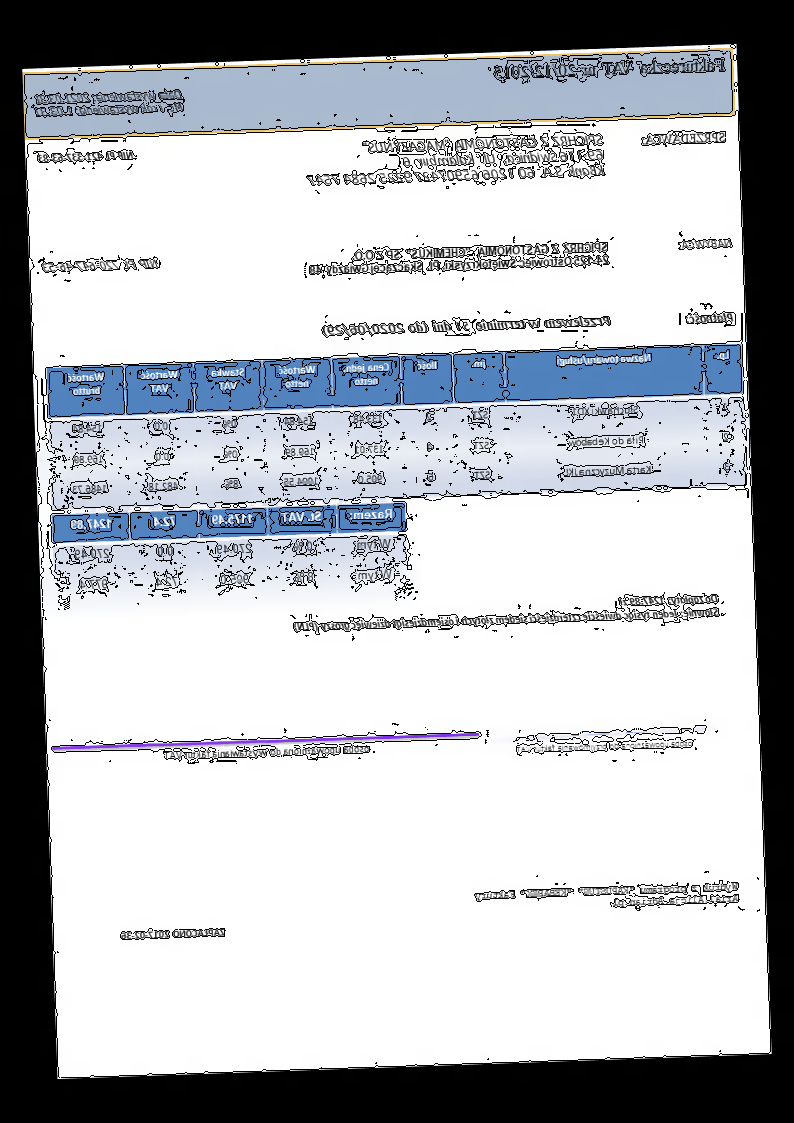Table: (46, 342, 748, 509), (50, 501, 410, 607)
TextBox: (292, 590, 721, 636), (303, 130, 609, 191), (307, 238, 613, 280), (472, 880, 742, 913), (321, 313, 612, 338), (492, 54, 727, 82), (32, 86, 185, 121), (161, 742, 372, 764), (514, 736, 694, 755), (41, 256, 161, 275), (35, 146, 136, 166), (120, 924, 228, 942), (640, 129, 729, 149), (685, 309, 736, 326), (677, 236, 734, 251)
